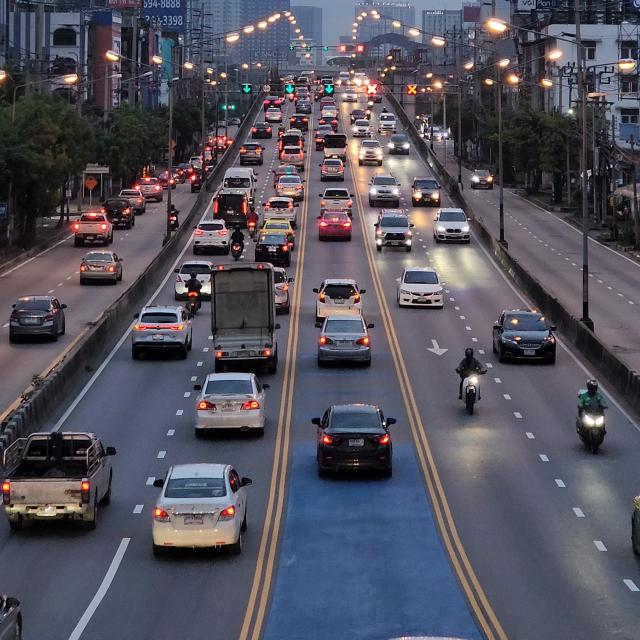Car: (3, 433, 123, 532), (147, 460, 253, 560), (212, 263, 284, 373), (312, 399, 403, 482), (487, 303, 560, 366), (136, 303, 196, 363), (319, 313, 374, 372), (13, 292, 70, 345), (310, 274, 367, 325), (394, 263, 447, 310), (69, 207, 120, 251), (371, 210, 418, 252), (78, 248, 125, 288), (189, 218, 236, 256), (312, 206, 357, 242), (435, 206, 473, 247), (258, 230, 295, 264)
